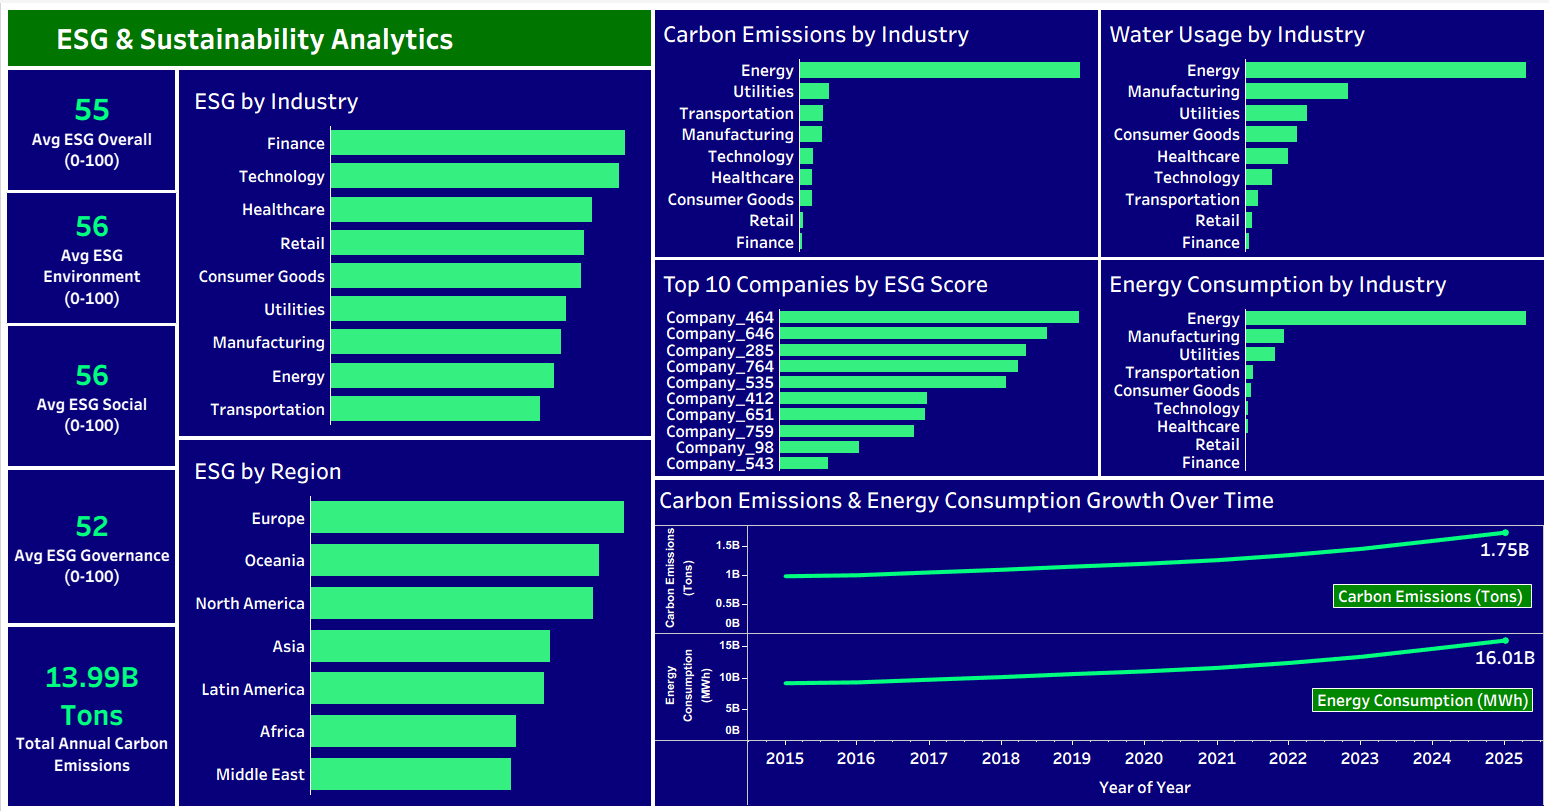

Layout of this report page (visuals, bound fields, positions):
{"tool":"tableau","page":{"name":"ESG & Sustainability Analytics","canvas":[1000,1000],"units":"permille","ordinal":0},"visuals":[{"type":"text","box":[3.2,6.2,417.4,74.5]},{"type":"worksheet","title":"Carbon Emissions by Industry","mark":"Bar","rows":["Industry"],"cols":["CarbonEmissions"],"box":[420.6,6.2,288.1,309.3]},{"type":"worksheet","title":"Water Usage by Industry","mark":"Automatic","rows":["Industry"],"cols":["WaterUsage"],"box":[708.7,6.2,288.1,309.3]},{"type":"worksheet","title":"Avg ESG Overall","mark":"Automatic","box":[3.2,80.6,110.3,152.7]},{"type":"worksheet","title":"ESG by Industry","mark":"Automatic","rows":["Industry"],"cols":["ESG_Overall"],"box":[113.5,80.6,307.1,456.4]},{"type":"worksheet","title":"Avg ESG Environment","mark":"Automatic","box":[3.2,233.3,110.3,163]},{"type":"worksheet","title":"Top 10 Companies by ESG Score","mark":"Automatic","rows":["CompanyName"],"cols":["ESG_Environmental"],"box":[420.6,315.4,288.1,271]},{"type":"worksheet","title":"Energy Consumption by Industry","mark":"Automatic","rows":["Industry"],"cols":["EnergyConsumption"],"box":[708.7,315.4,288.1,271]},{"type":"worksheet","title":"Avg ESG Social","mark":"Automatic","box":[3.2,396.3,110.3,177.8]},{"type":"worksheet","title":"ESG by Region","mark":"Automatic","rows":["Region"],"cols":["ESG_Overall"],"box":[113.5,537,307.1,456.8]},{"type":"worksheet","title":"Avg ESG Governance","mark":"Automatic","box":[3.2,574.1,110.3,193.8]},{"type":"worksheet","title":"Carbon Emissions & Energy Consumption Growth Over Time","mark":"Line","rows":["CarbonEmissions","EnergyConsumption"],"cols":["Year"],"box":[420.6,586.4,576.1,407.4]},{"type":"text","box":[859.4,717.3,128.4,29.6]},{"type":"worksheet","title":"Total Annual Carbon Emissions","mark":"Automatic","box":[3.2,767.9,110.3,225.9]},{"type":"text","box":[845.8,845.7,142.6,29.6]}]}

Visuals, with their boxes on the dashboard's canvas, which has no fixed pixel size, in thousandths of its width and height (x1, y1, x2, y2). These are canvas units, not pixel positions in the 1549x811 screenshot, which may show the page scaled, cropped or inside an application window:
text: {"x1": 3, "y1": 6, "x2": 421, "y2": 81}
"Carbon Emissions by Industry" worksheet (Bar marks): {"x1": 421, "y1": 6, "x2": 709, "y2": 316}
"Water Usage by Industry" worksheet: {"x1": 709, "y1": 6, "x2": 997, "y2": 316}
"Avg ESG Overall" worksheet: {"x1": 3, "y1": 81, "x2": 114, "y2": 233}
"ESG by Industry" worksheet: {"x1": 114, "y1": 81, "x2": 421, "y2": 537}
"Avg ESG Environment" worksheet: {"x1": 3, "y1": 233, "x2": 114, "y2": 396}
"Top 10 Companies by ESG Score" worksheet: {"x1": 421, "y1": 315, "x2": 709, "y2": 586}
"Energy Consumption by Industry" worksheet: {"x1": 709, "y1": 315, "x2": 997, "y2": 586}
"Avg ESG Social" worksheet: {"x1": 3, "y1": 396, "x2": 114, "y2": 574}
"ESG by Region" worksheet: {"x1": 114, "y1": 537, "x2": 421, "y2": 994}
"Avg ESG Governance" worksheet: {"x1": 3, "y1": 574, "x2": 114, "y2": 768}
"Carbon Emissions & Energy Consumption Growth Over Time" worksheet (Line marks): {"x1": 421, "y1": 586, "x2": 997, "y2": 994}
text: {"x1": 859, "y1": 717, "x2": 988, "y2": 747}
"Total Annual Carbon Emissions" worksheet: {"x1": 3, "y1": 768, "x2": 114, "y2": 994}
text: {"x1": 846, "y1": 846, "x2": 988, "y2": 875}
